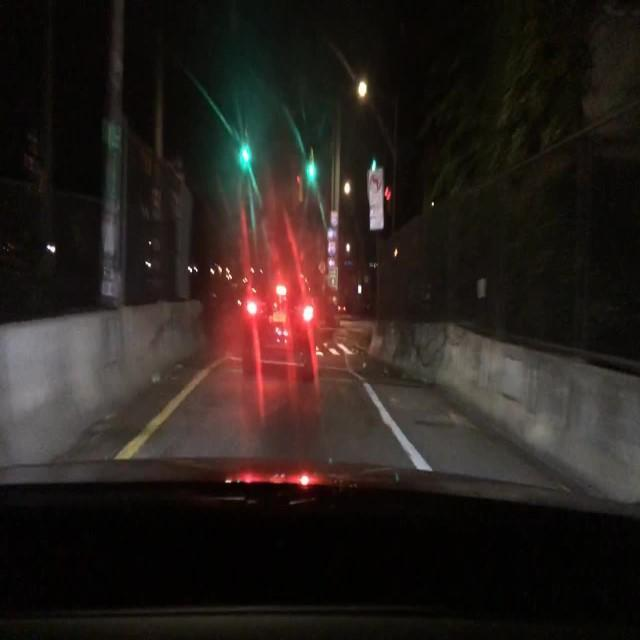normal: (186, 212, 350, 400)
